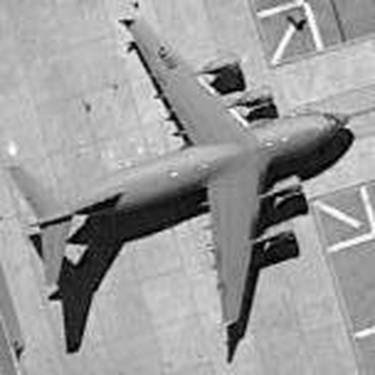airplane: (3, 5, 358, 351)
